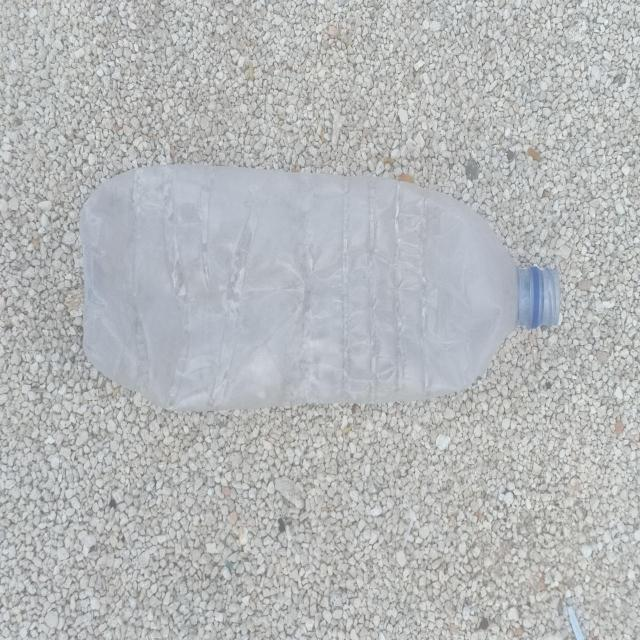litter: (74, 161, 561, 411)
